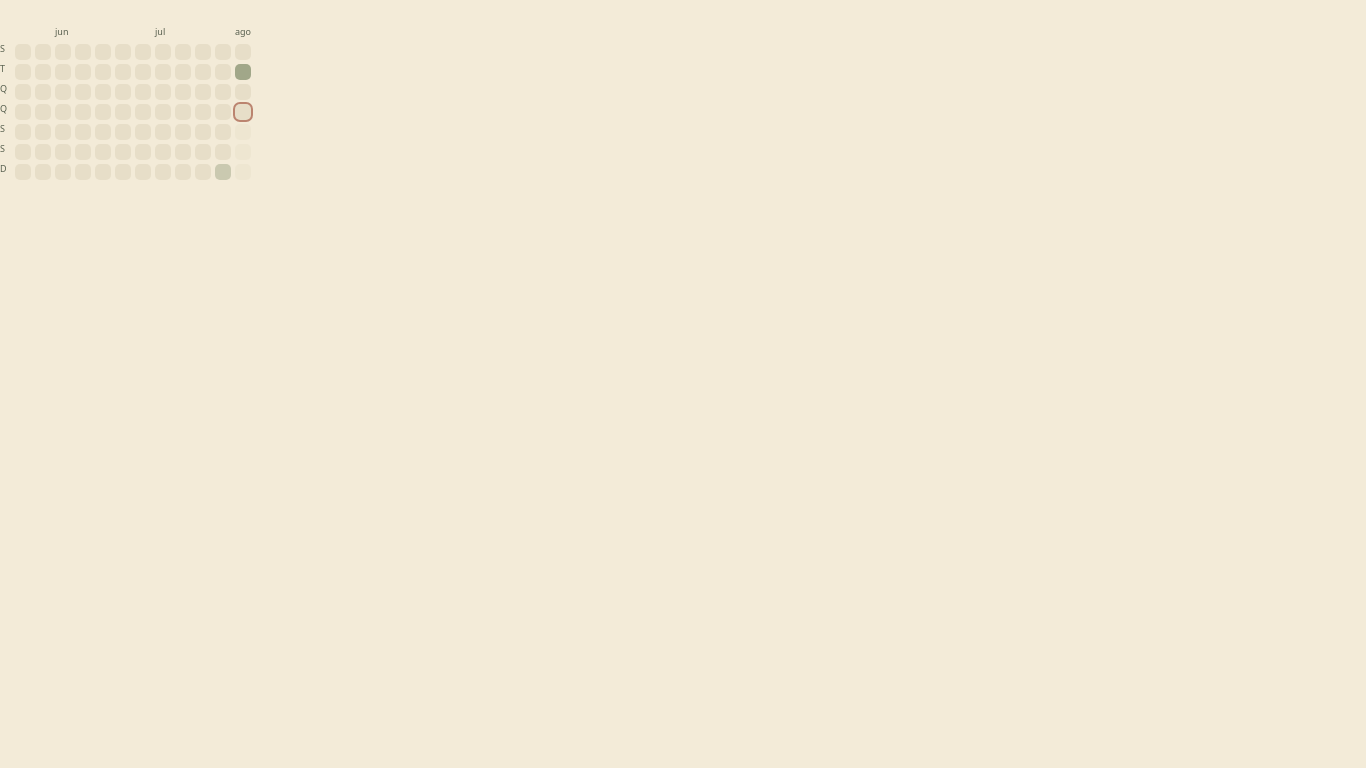
Test: MapaCalor — tempo total do dia por fuso horário › soma o tempo do dia local corretamente em UTC
Click the button named "04 de ago. — 2 práticas" at (243,72), box [235, 64, 251, 80]
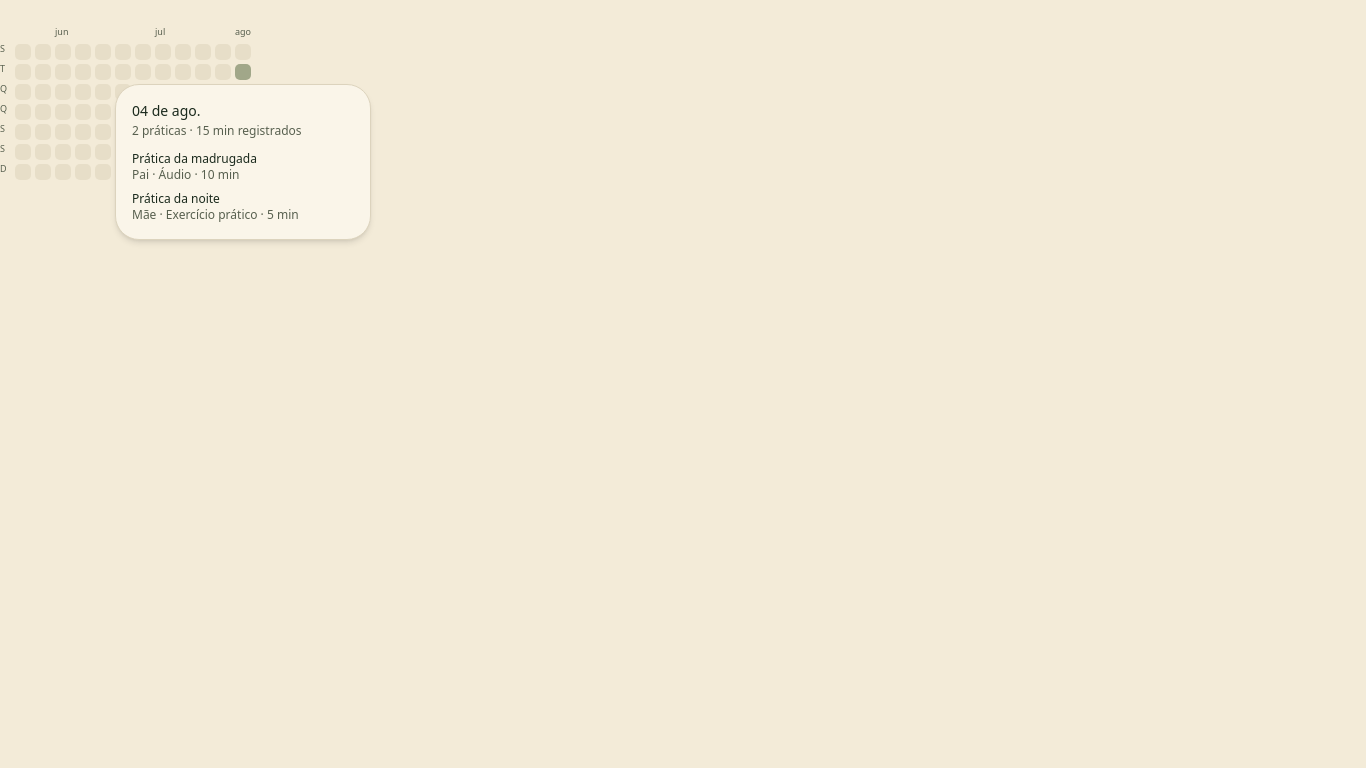
Result: the text "2 práticas · 15 min registrados" is shown at [132, 122, 302, 139]
Result: the number of list items is 2 at [132, 150, 257, 183]; [132, 190, 299, 223]
Result: the text "Prática da madrugada" is shown at [132, 150, 257, 167]
